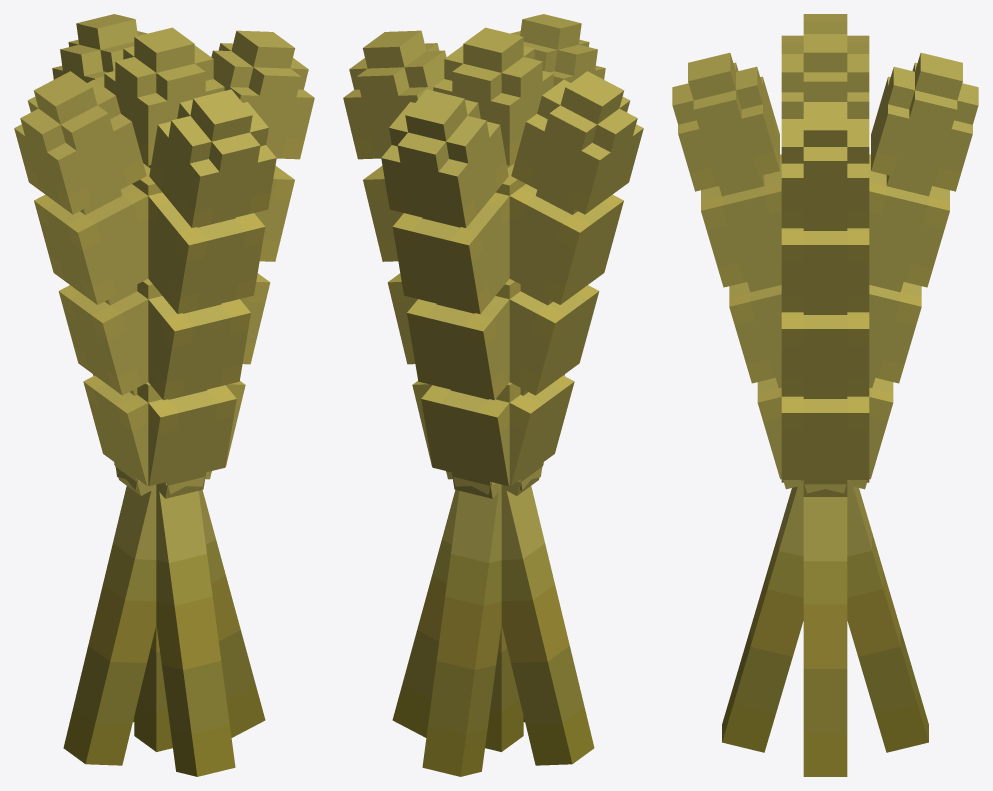
Rendered from Wheat.fbx.
3 renders of one model, left to right at view 1: azimuth 30°, elevation 25°; view 2: azimuth 150°, elevation 25°; view 3: azimuth 270°, elevation 25°, orthographic.
Parts seen in each view (by area): view 1: Wheat; view 2: Wheat; view 3: Wheat.
Part boxes in pixels (<box>): Wheat: <box>14,14,314,776</box>; Wheat: <box>343,14,643,776</box>; Wheat: <box>672,14,978,776</box>.
Size of the model in its own units: 0.2793 by 0.2793 by 0.7052.
1 material, 1 textured.
